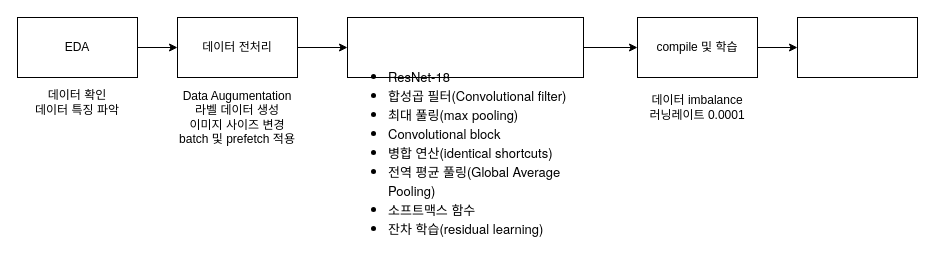
Image size: 935x271. Some labels were removed from this diagram. Each missing label, with the centre of its shape:
Resnet 18 Modeling: [465,47]
결과 확인 및 평가: [857,47]
